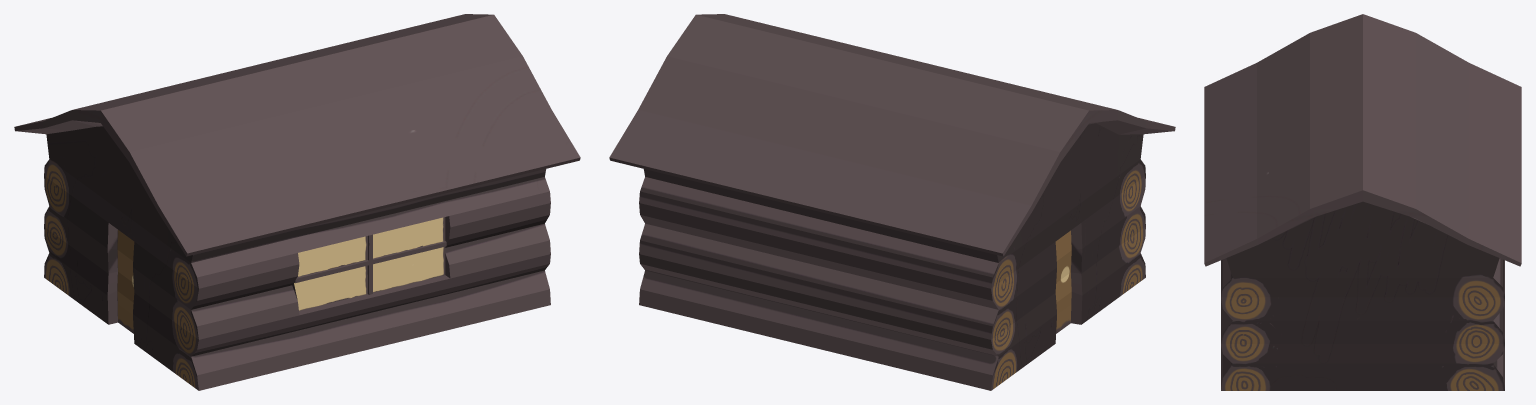
File: cabin.glb
The picture shows the model from 3 angles, left to right: view 1: azimuth 30°, elevation 25°; view 2: azimuth 150°, elevation 25°; view 3: azimuth 270°, elevation 25°; orthographic projection. The views are drawn at different scales.
Parts seen in each view (by area): view 1: Cube; view 2: Cube; view 3: Cube.
Part boxes in pixels (bbox=[...]): Cube: bbox=[14, 14, 580, 390]; Cube: bbox=[609, 14, 1175, 390]; Cube: bbox=[1204, 14, 1521, 390].
Size of the model in its own units: 44.34 by 24.63 by 33.76.
1 material, 1 textured.
